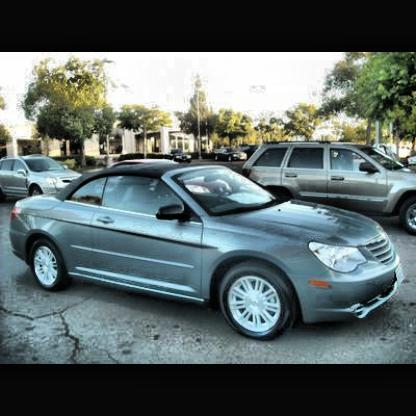Chrysler Sebring Convertible 2010: (14, 159, 407, 344)
